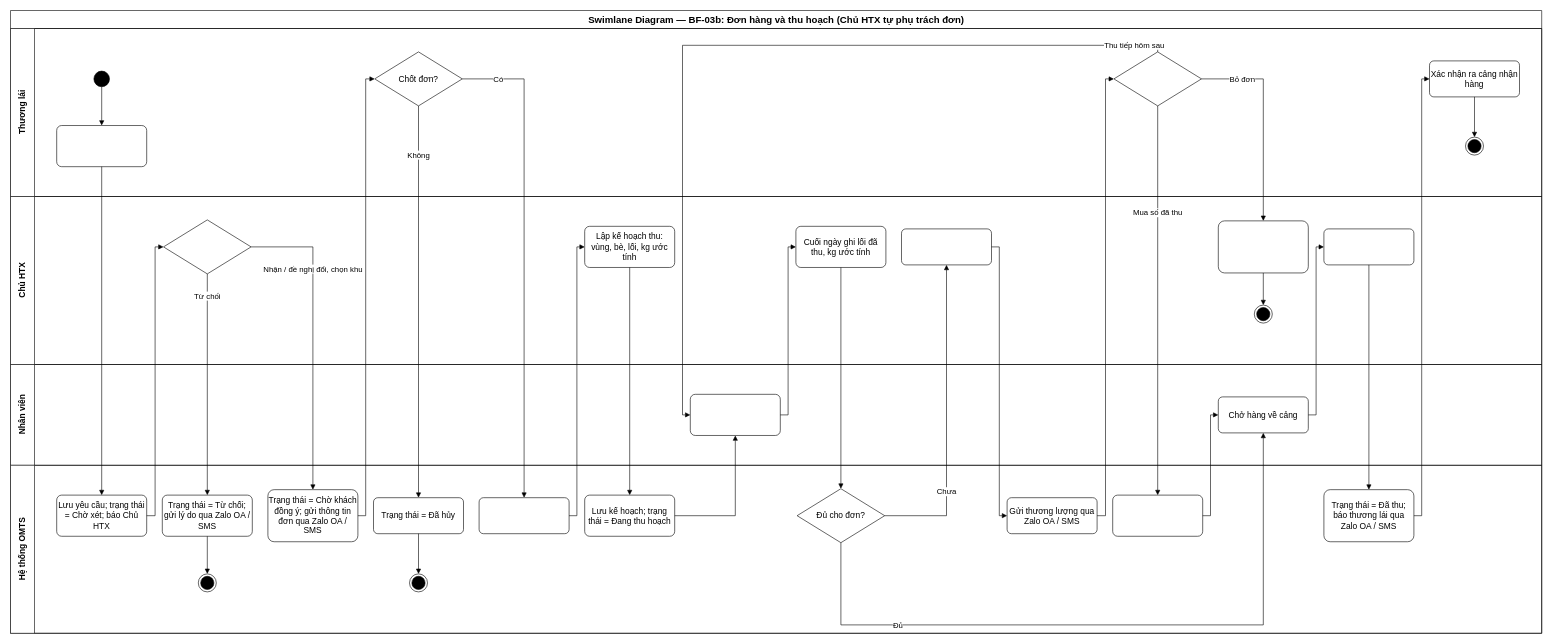
The diagram is 1552 pixels wide and 644 high, and some of its shapes have lost their labels. Each missing label, with the centre of its shape:
"Chọn Thu xong, báo hàng về cảng" belongs at [1368,246].
"Cập nhật lượng đơn theo số đã thu" belongs at [1157,515].
"Gửi thương lượng hàng thu thiếu" belongs at [946,246].
"Hủy đơn (Đã hủy); lô đã thu gắn đơn khác hoặc xử lý khác" belongs at [1263,246].
"Thu theo lối, hết lối này sang lối khác" belongs at [735,414].
"Thương lượng?" belongs at [1157,78].
"Trạng thái = Đã xác nhận" belongs at [523,515].
"Tạo yêu cầu mua: sản phẩm, số kg, thời điểm" belongs at [101,146].
"Xử lý yêu cầu?" belongs at [207,246].
